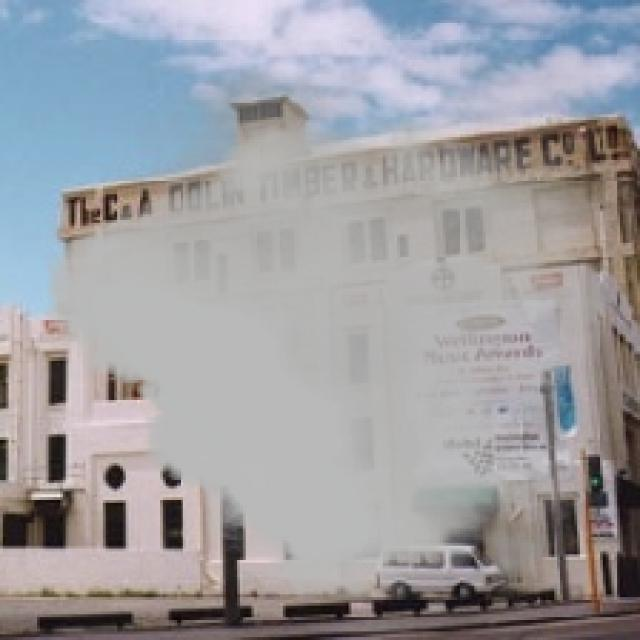Smoke: (45, 54, 606, 609)
